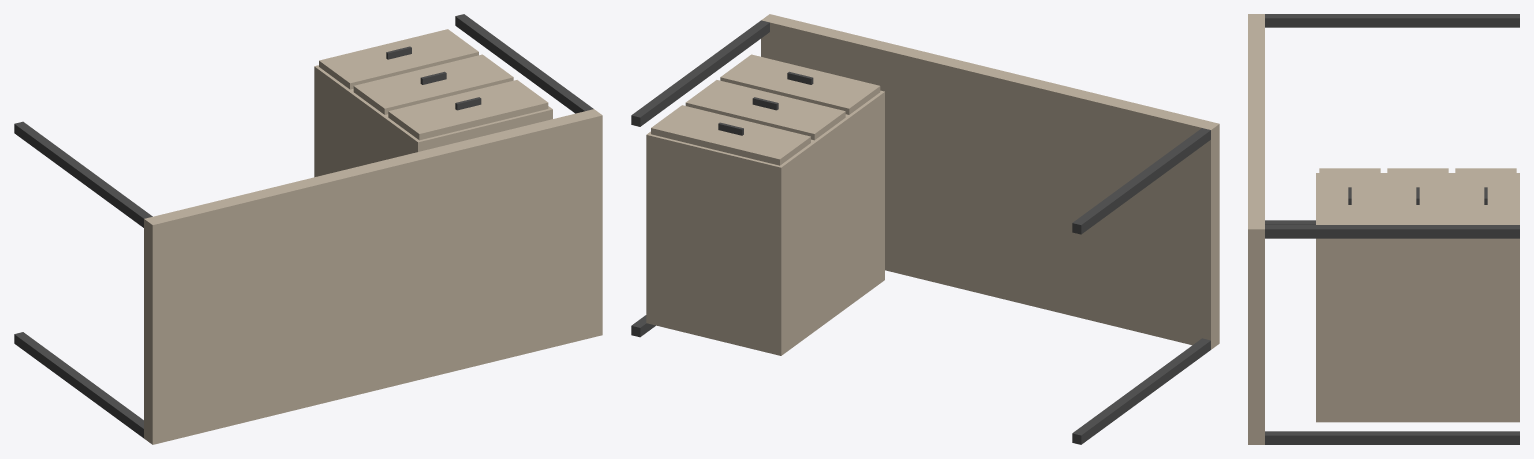
File: office_original.glb
3 views of the same model, side by side, from view 1: azimuth 30°, elevation 25°; view 2: azimuth 150°, elevation 25°; view 3: azimuth 270°, elevation 25° (orthographic).
Parts seen in each view (by area): view 1: world; view 2: world; view 3: world.
Part boxes in pixels (bbox=[...]): world: bbox=[14, 14, 602, 444]; world: bbox=[631, 14, 1219, 444]; world: bbox=[1248, 14, 1519, 444].
Bounding box in the file's own units: 1.5 × 0.7 × 0.8.
